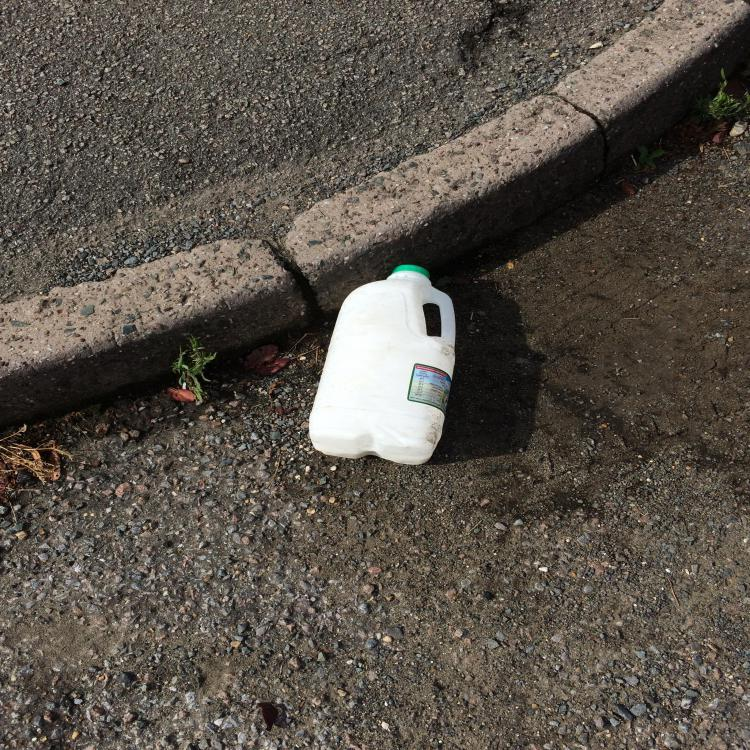Plastic bottle cap: (391, 264, 430, 280)
